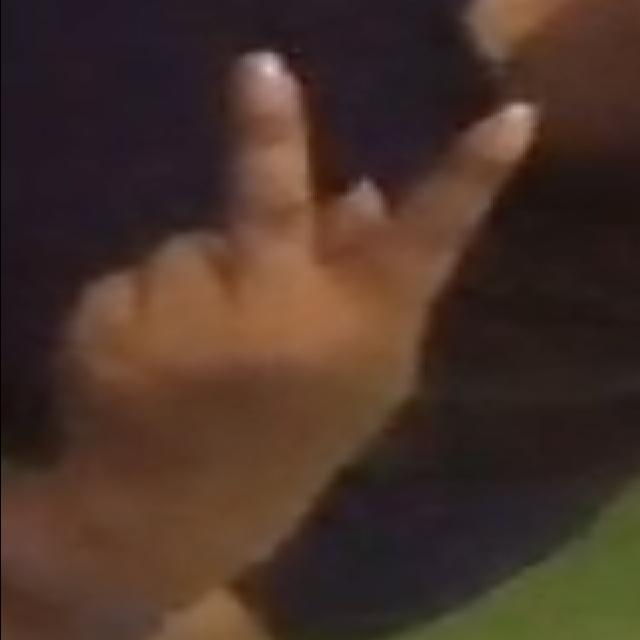K: (42, 38, 554, 567)
